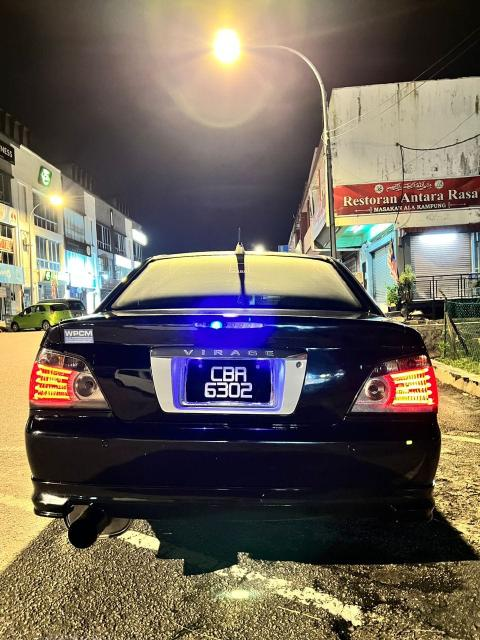License_Plate: (189, 363, 273, 404)
car: (15, 248, 450, 546)
